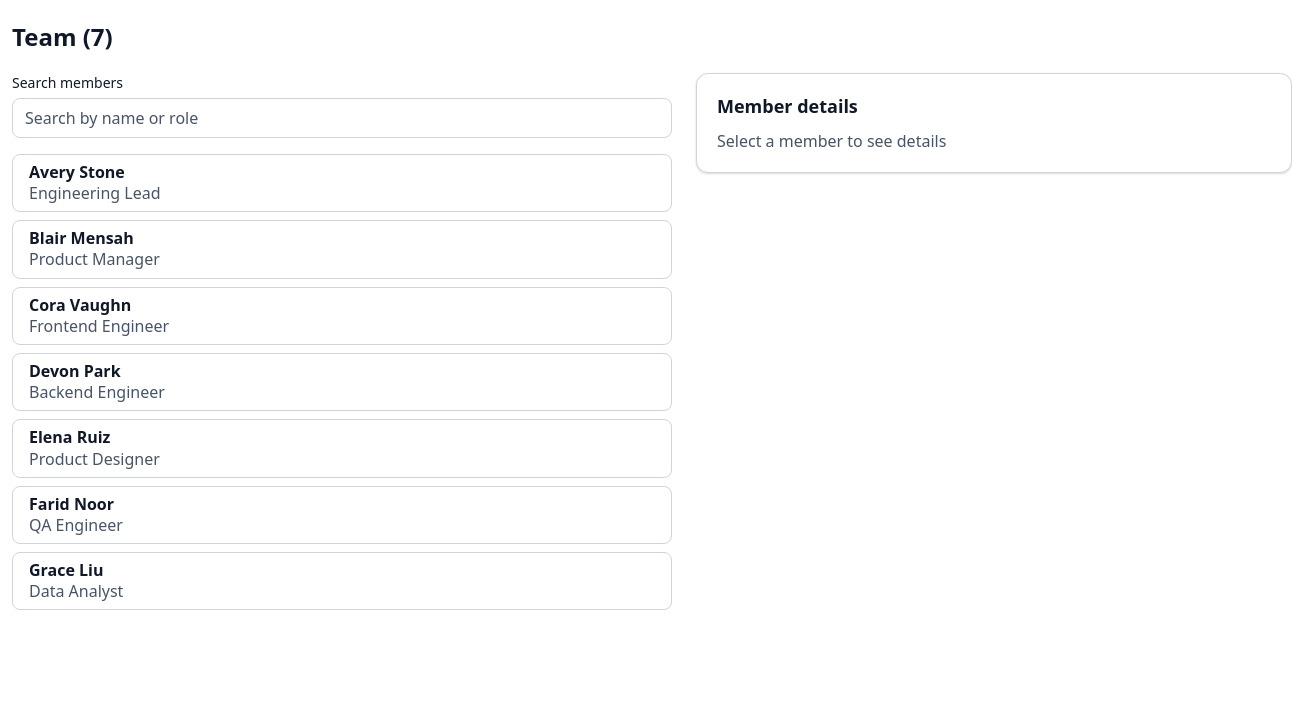
TeamPage member detail panel (RMIN-132) › keeps the selected member in the panel when the search text changes (AC5)
Click the button "Avery Stone Engineering Lead". click: (77, 172)
box: [12, 154, 672, 212]
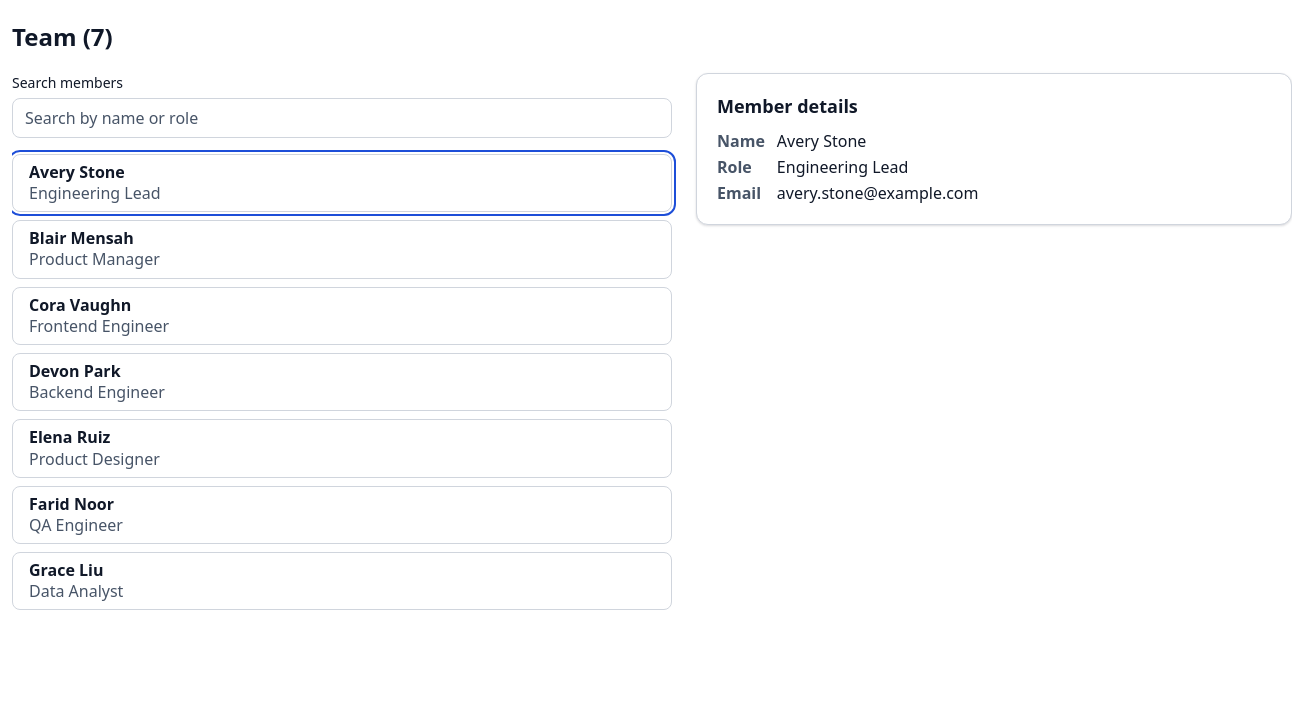
Type "zzz" into the field labelled "Search members". click: (342, 118)
box: [12, 98, 672, 138]
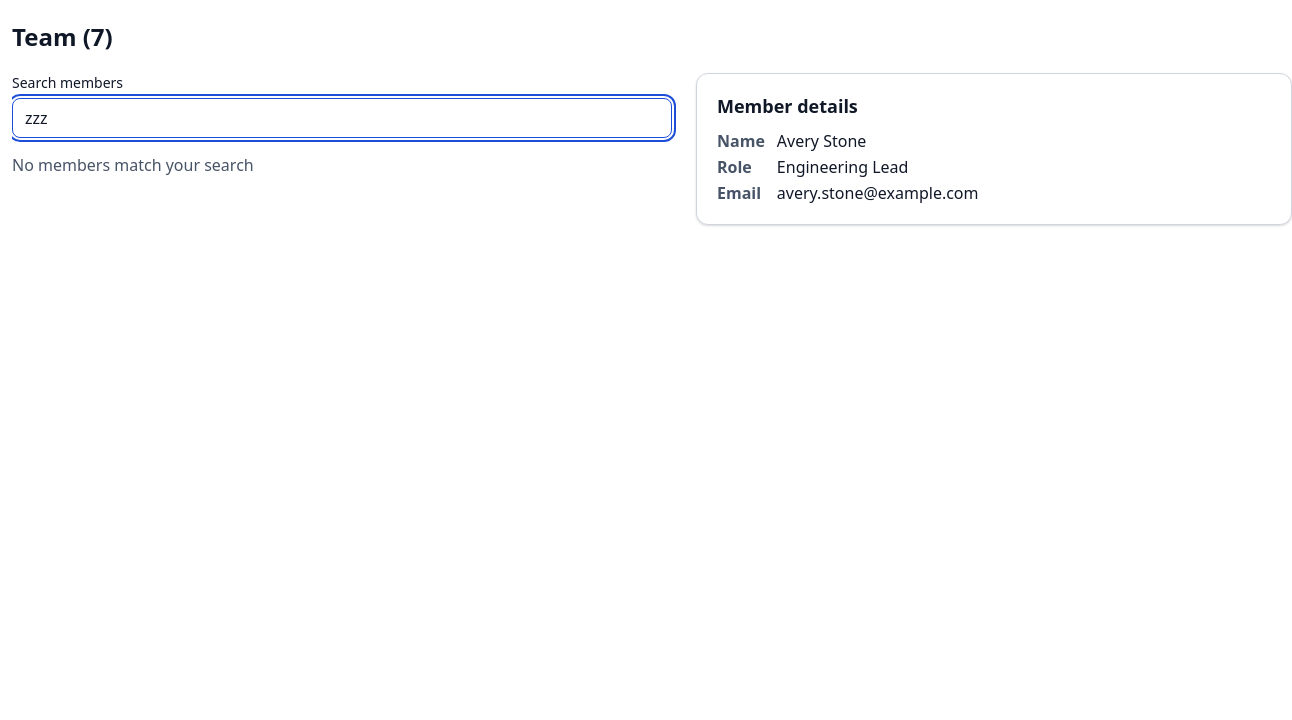
Expected: the text "Avery Stone" is shown, [777, 130, 866, 152]
Now the text "avery.stone@example.com" is shown, box [777, 182, 978, 204]
Now the text "No members match your search" is shown, box [12, 154, 254, 176]
